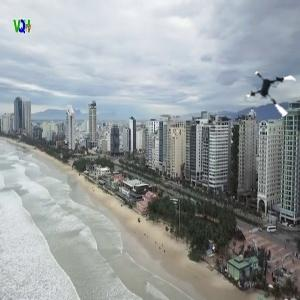drone: (248, 67, 300, 120)
